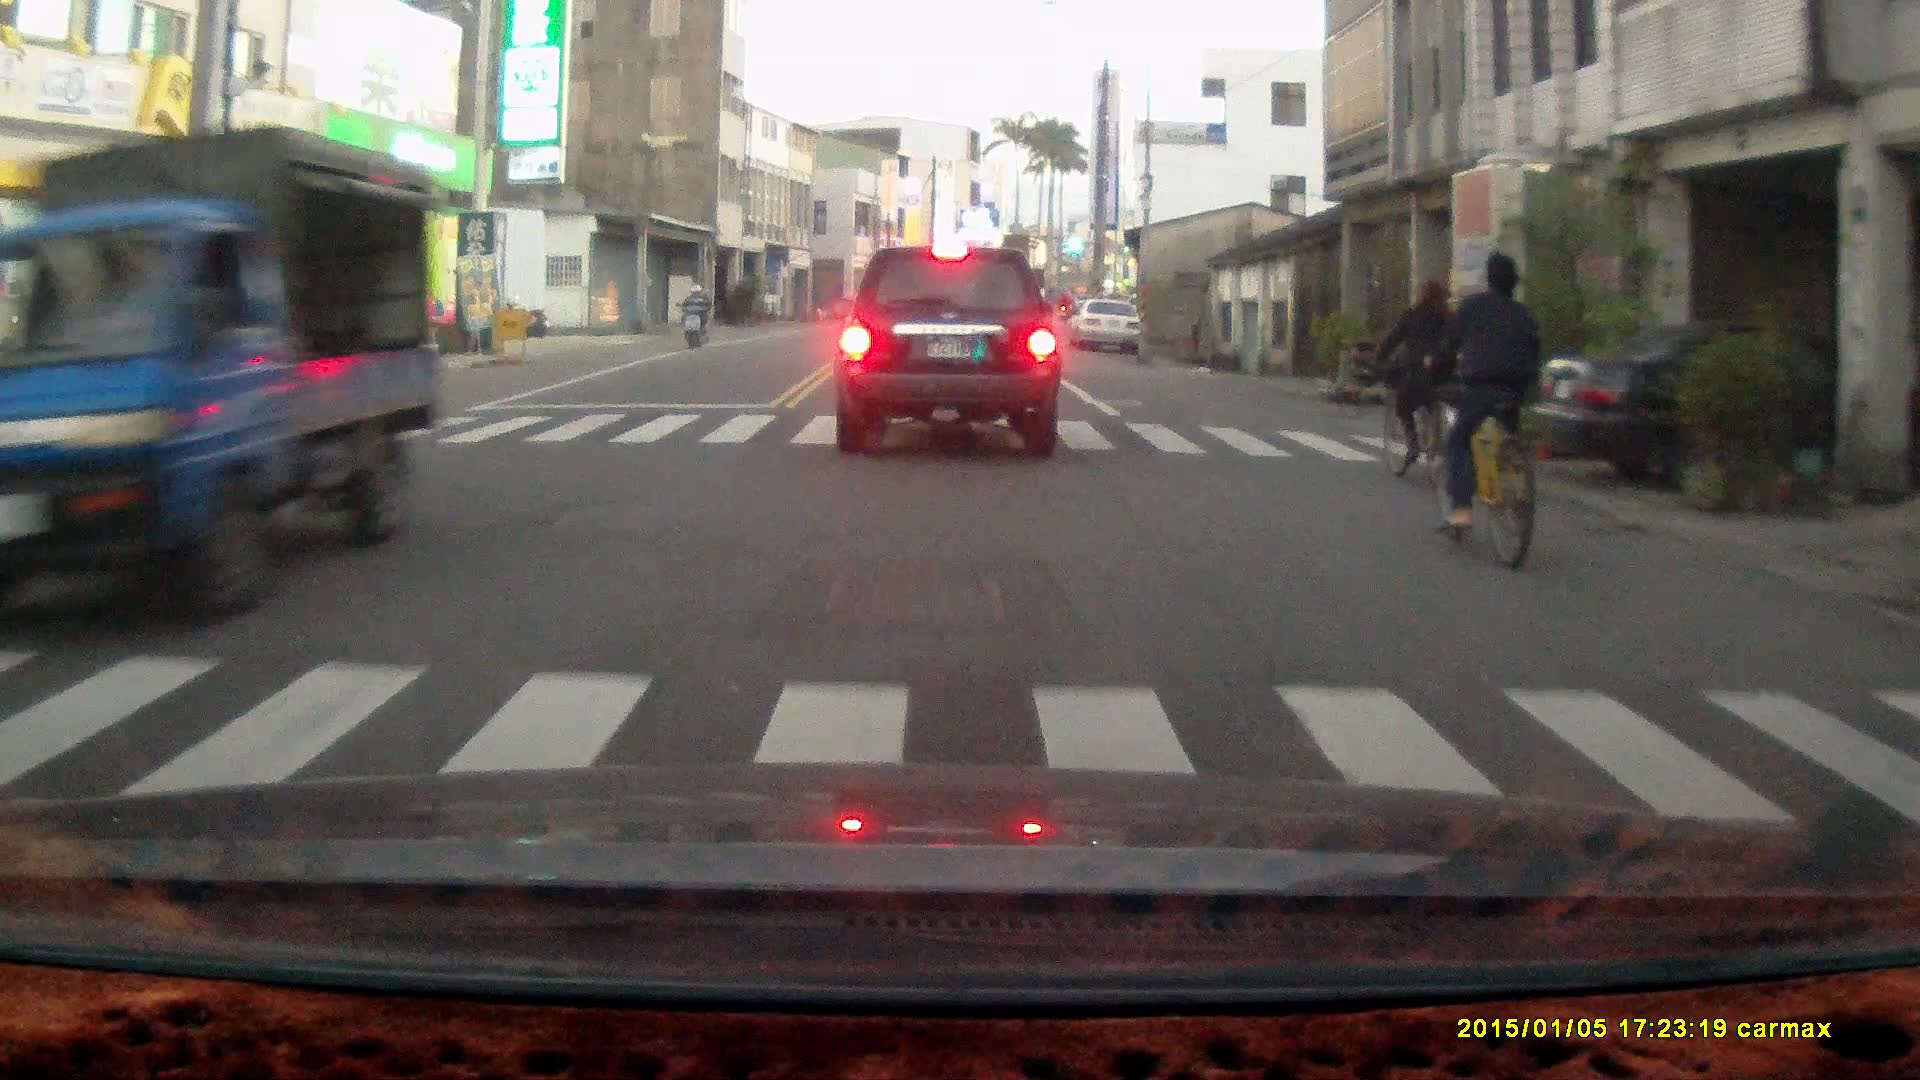rider: (1416, 253, 1540, 575), (1373, 278, 1460, 496), (679, 279, 709, 351)
vehicle: (1, 117, 441, 656), (1527, 316, 1920, 501), (830, 245, 1065, 459), (1070, 298, 1145, 356)
